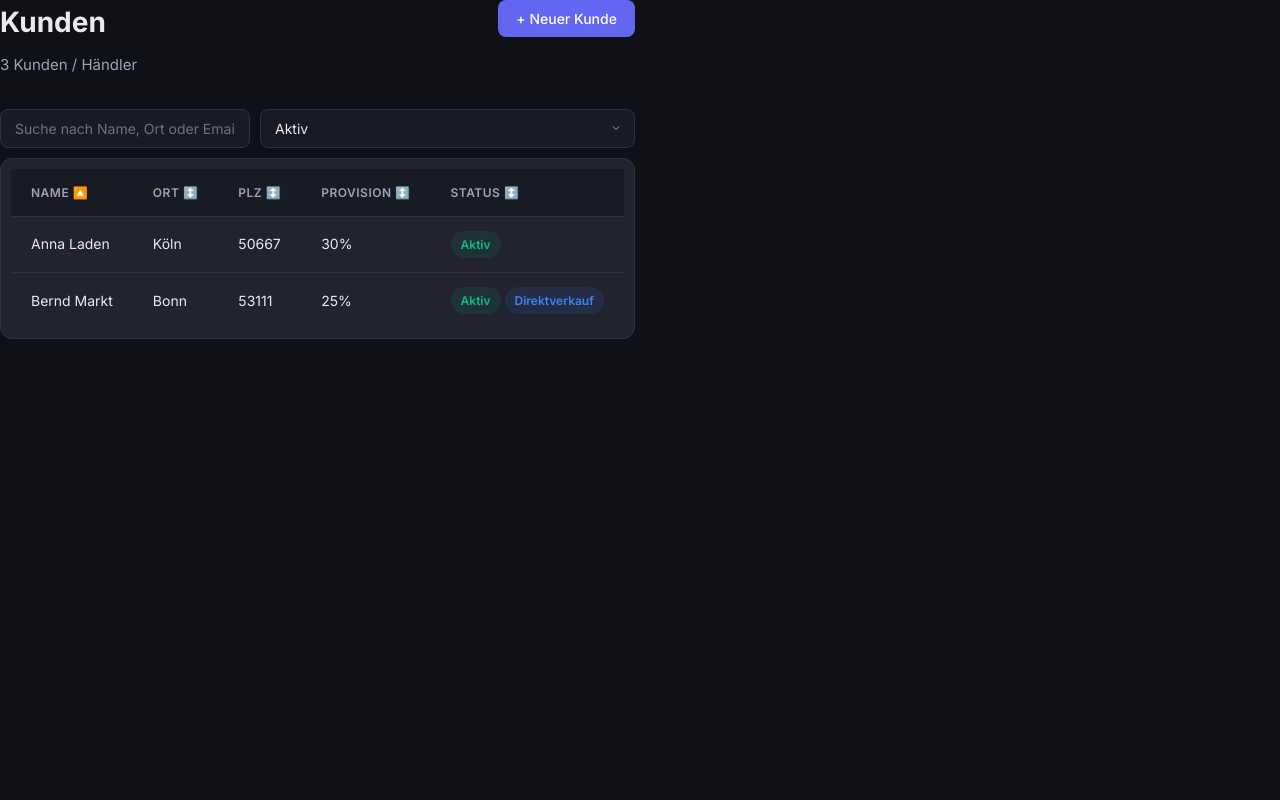
Test: Anlegen › zeigt Fehler des Servers und lässt das Formular offen
Check: the text "Anna Laden" is shown, box [11,216,133,273]
Click the button "+ Neuer Kunde" at (567, 18), box [498,0,635,37]
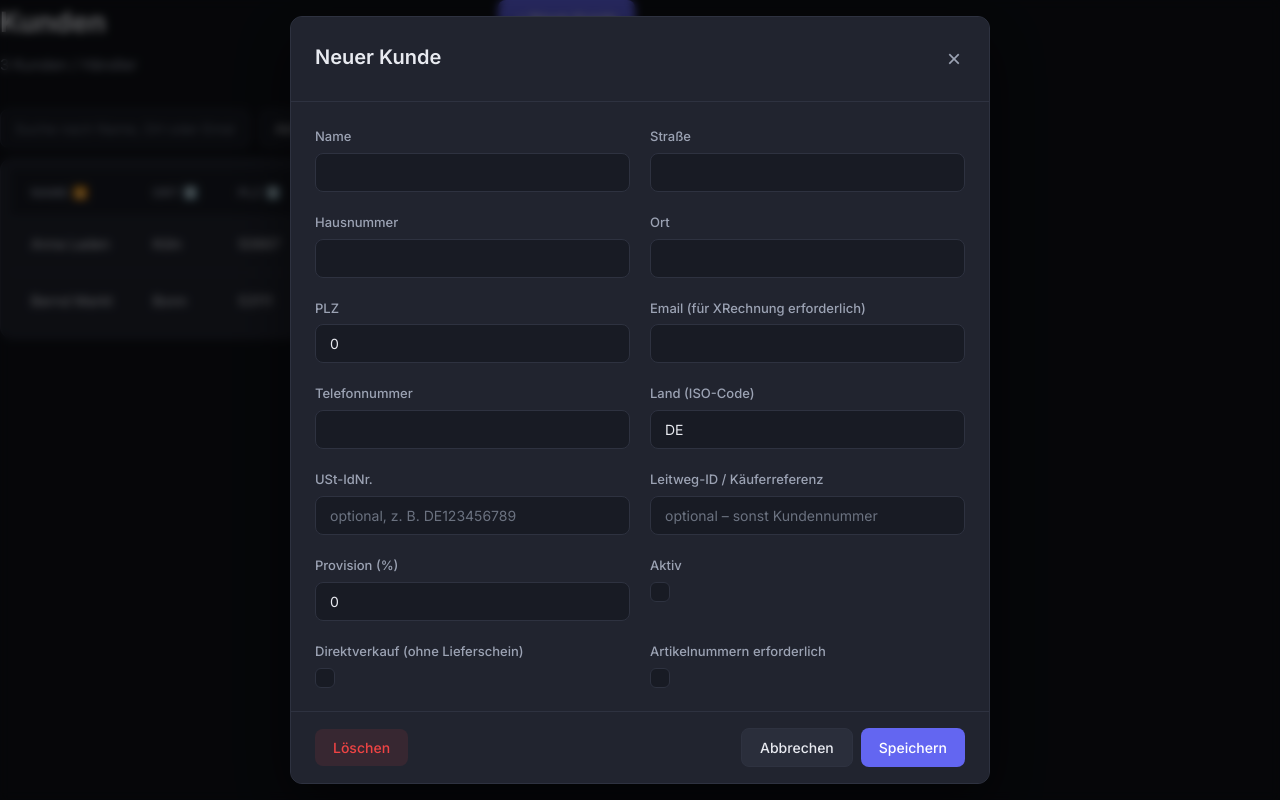
Click the button "Speichern" at (913, 748), box [861,728,965,767]
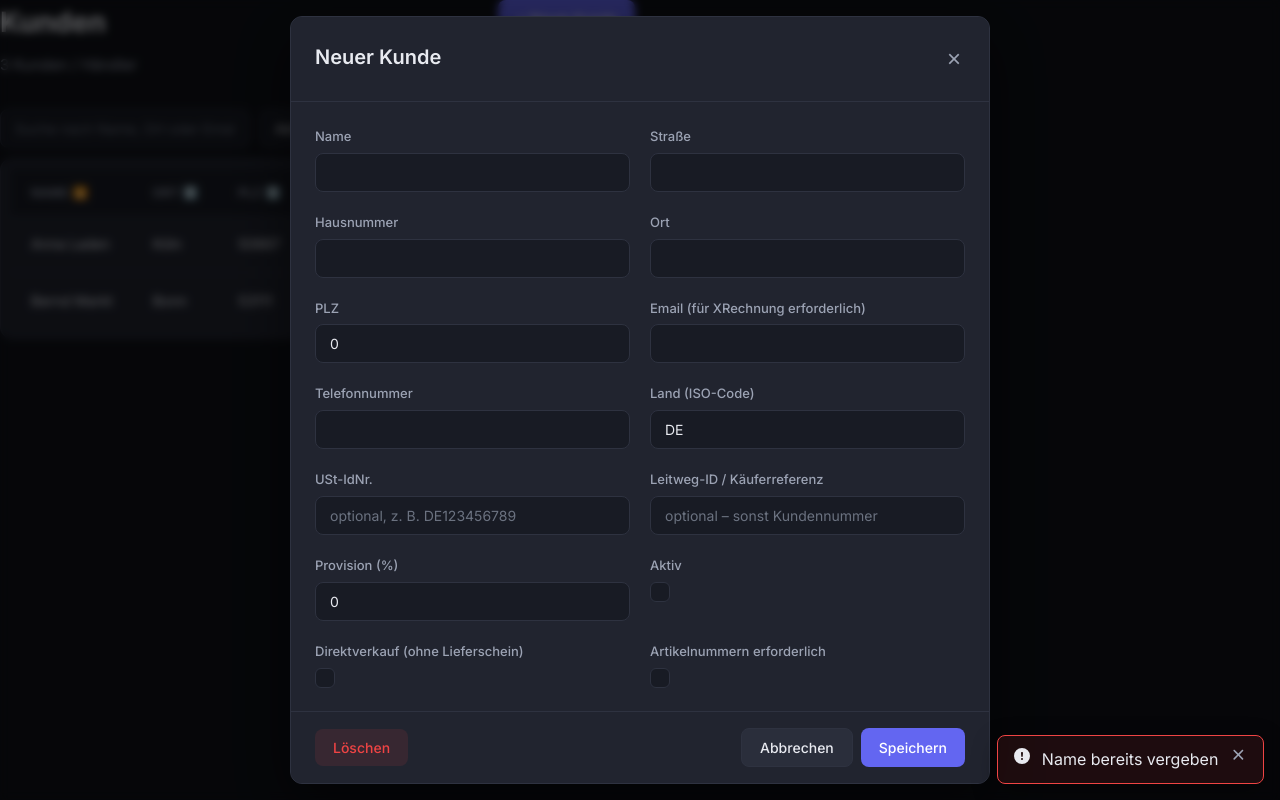
Check: the heading "Neuer Kunde" is shown, box [315,41,441,73]
Check: the text "Name bereits vergeben" is shown, box [1042,748,1218,771]
